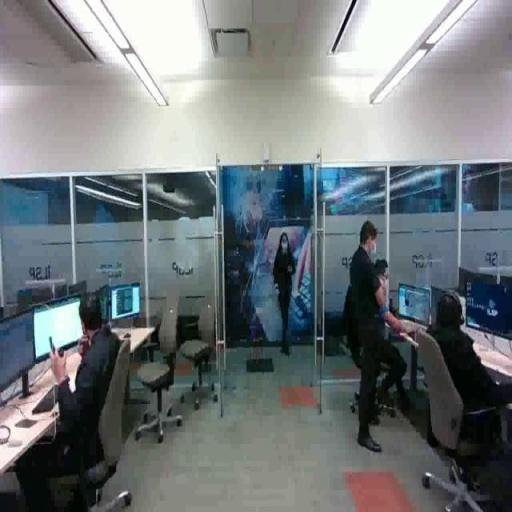person: (10, 292, 137, 512), (416, 288, 512, 469), (352, 217, 387, 458), (273, 233, 300, 357)
